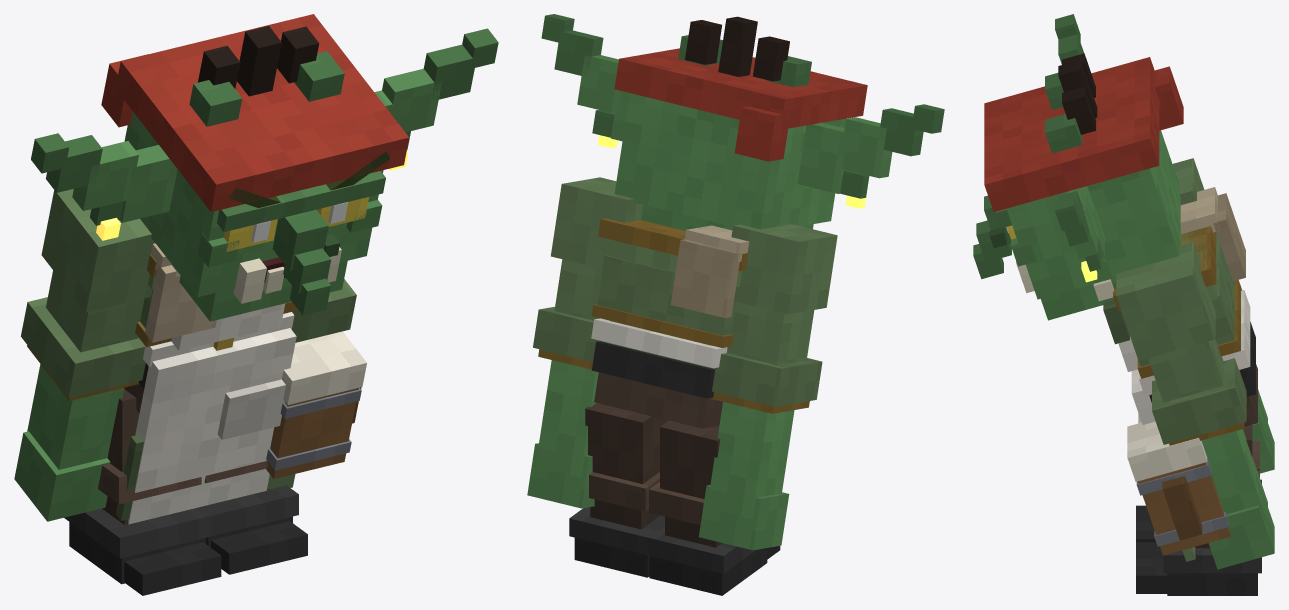
File: goblin_aubergiste_v2.glb
3 renders of one model, left to right at view 1: azimuth 30°, elevation 25°; view 2: azimuth 150°, elevation 25°; view 3: azimuth 270°, elevation 25°, orthographic. The views are drawn at different scales.
Parts seen in each view (by area): view 1: Head, Torso, ArmR, LegR, HandL, LegL, ArmL; view 2: Head, ArmR, Torso, ArmL, LegL, LegR; view 3: Head, ArmL, Torso, HandL, LegL, ArmR, LegR.
Boxes of the visible parts, x1,y1,x2,y2 form: Head: [31, 14, 498, 321]; Torso: [116, 243, 297, 524]; ArmR: [14, 189, 155, 521]; LegR: [64, 389, 221, 595]; HandL: [266, 331, 366, 478]; LegL: [195, 461, 307, 574]; ArmL: [291, 279, 356, 342]; Head: [541, 14, 944, 230]; ArmR: [698, 224, 837, 550]; Torso: [591, 218, 749, 428]; ArmL: [527, 177, 643, 508]; LegL: [569, 403, 668, 577]; LegR: [644, 420, 780, 595]; Head: [973, 14, 1183, 320]; ArmL: [1116, 242, 1274, 569]; Torso: [1093, 187, 1257, 561]; HandL: [1127, 421, 1230, 555]; LegL: [1136, 425, 1261, 595]; ArmR: [1172, 158, 1274, 473]; LegR: [1136, 441, 1261, 542].
Bounding box in the file's own units: 1.09 × 1.32 × 0.727.
44 materials, 44 textured.
